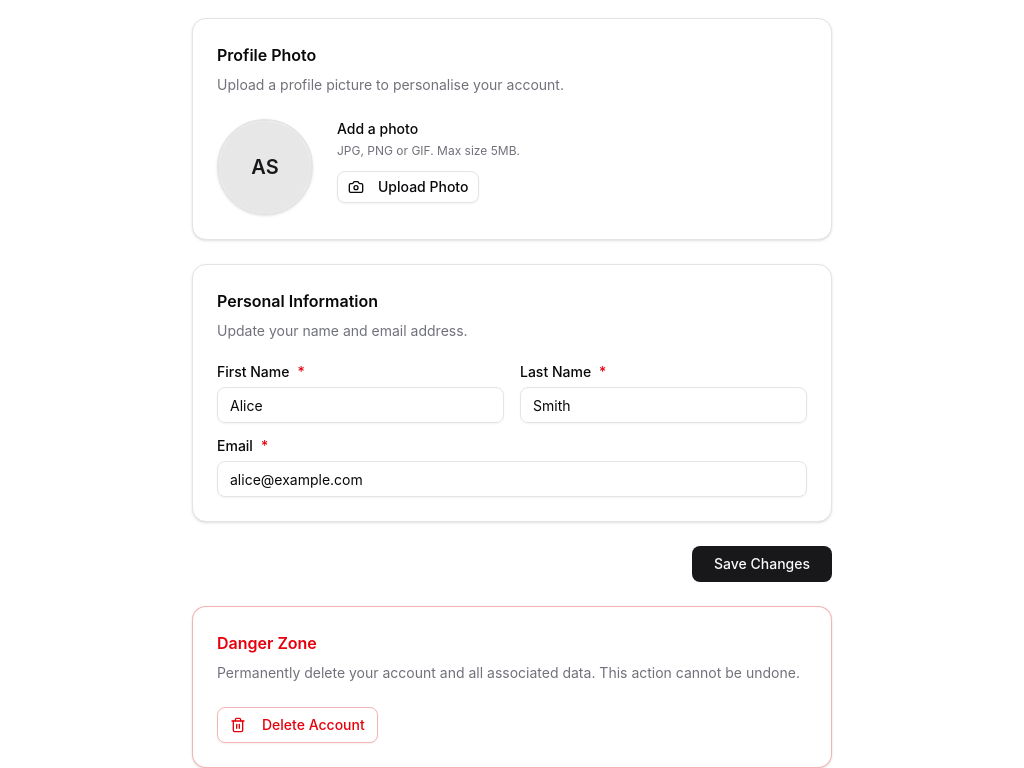
Components - EditProfileForm › should open delete confirmation when Delete Account is clicked
This screenshot has width=1024, height=768.
(page scrolled)
Click the button "Delete Account": x=297, y=725 [217,707,378,743]
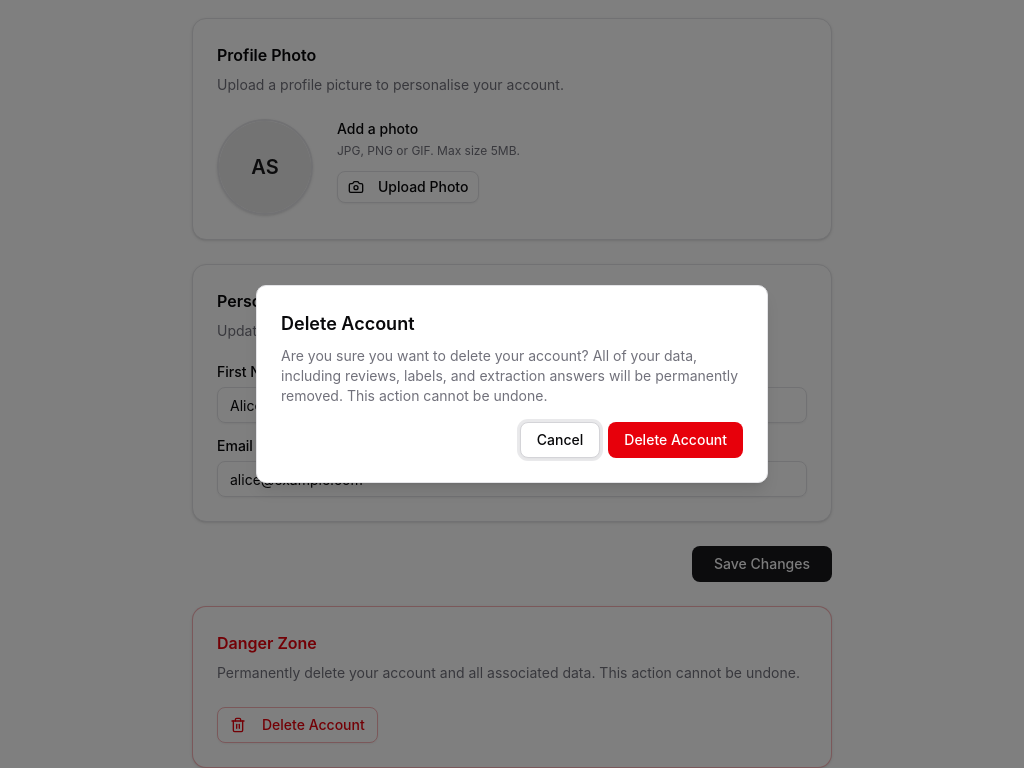
Result: the text "Are you sure you want to delete your account" is shown at [281,347,738,404]
